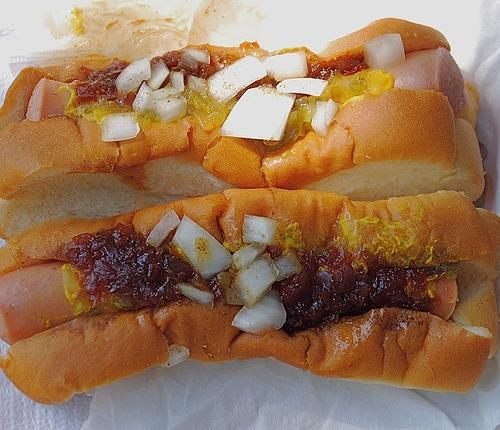onion: (220, 87, 297, 141), (172, 215, 234, 279), (206, 56, 267, 104), (231, 253, 278, 310), (231, 290, 287, 336), (363, 33, 405, 71), (262, 51, 309, 82), (146, 209, 182, 248), (114, 57, 152, 93), (100, 112, 140, 141), (243, 214, 280, 244), (276, 78, 328, 97), (232, 241, 266, 270), (154, 94, 188, 122), (178, 284, 214, 309), (273, 251, 301, 281), (146, 58, 170, 91), (146, 86, 180, 109), (177, 52, 199, 86), (132, 81, 153, 114), (159, 345, 190, 367), (324, 98, 341, 126), (182, 48, 211, 64), (186, 74, 209, 92), (225, 288, 244, 306), (169, 70, 184, 92)
